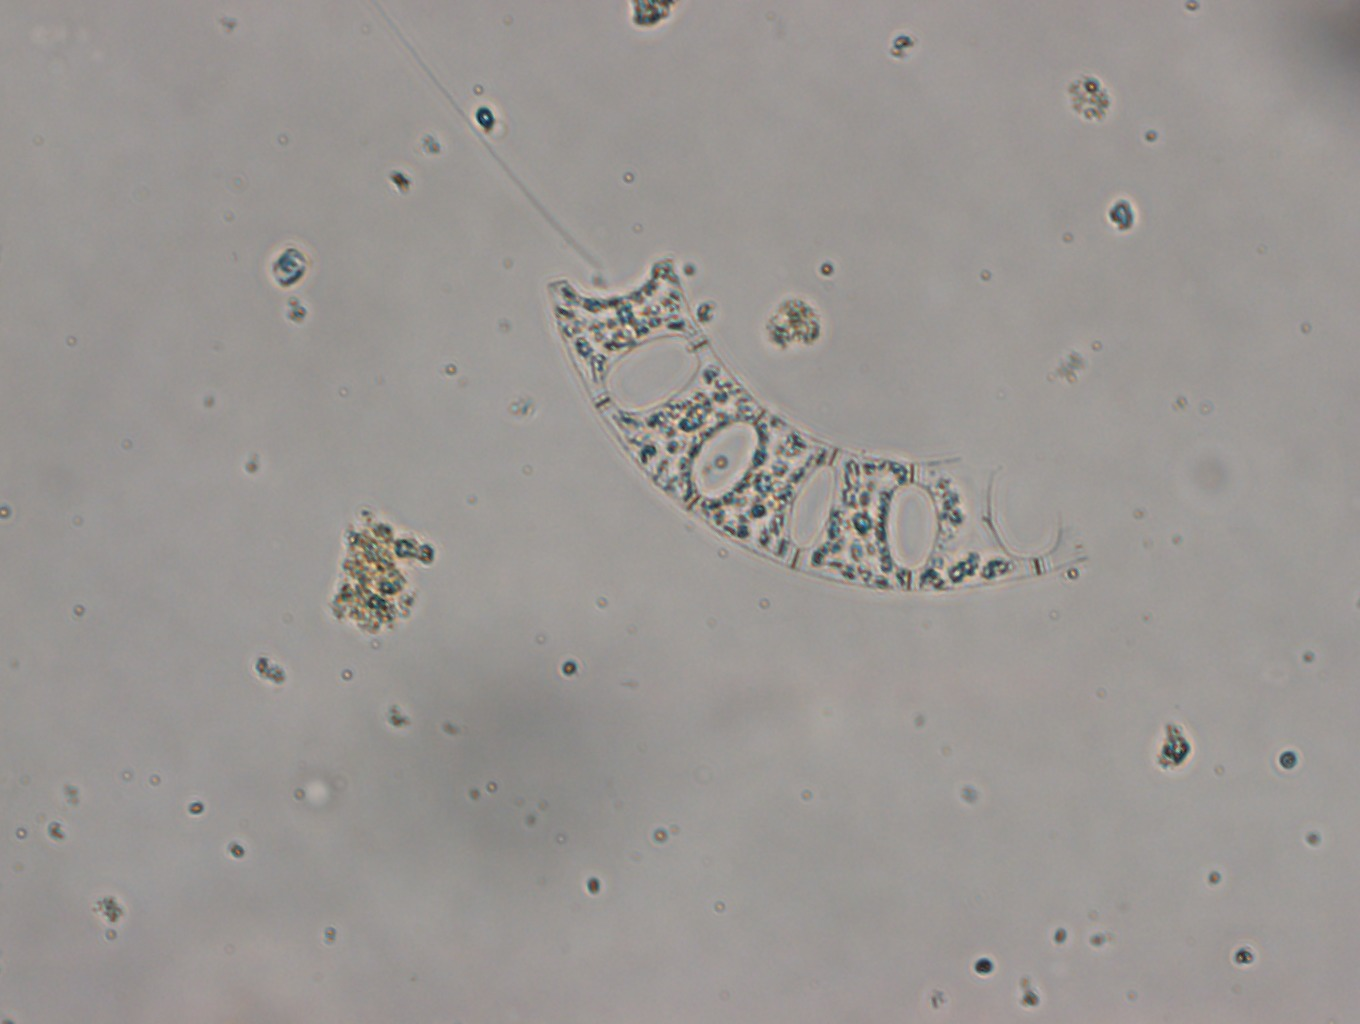eucampia: (544, 253, 1091, 591)
